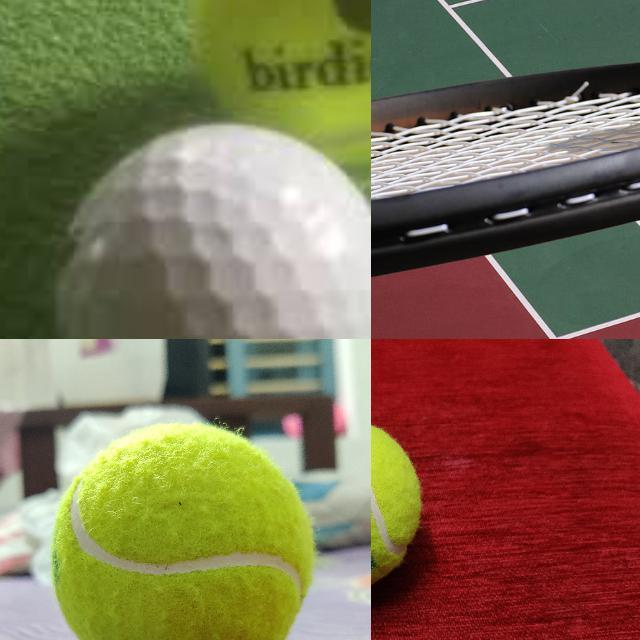tennis-ball: (50, 422, 317, 639), (184, 0, 370, 120), (371, 410, 423, 595)
